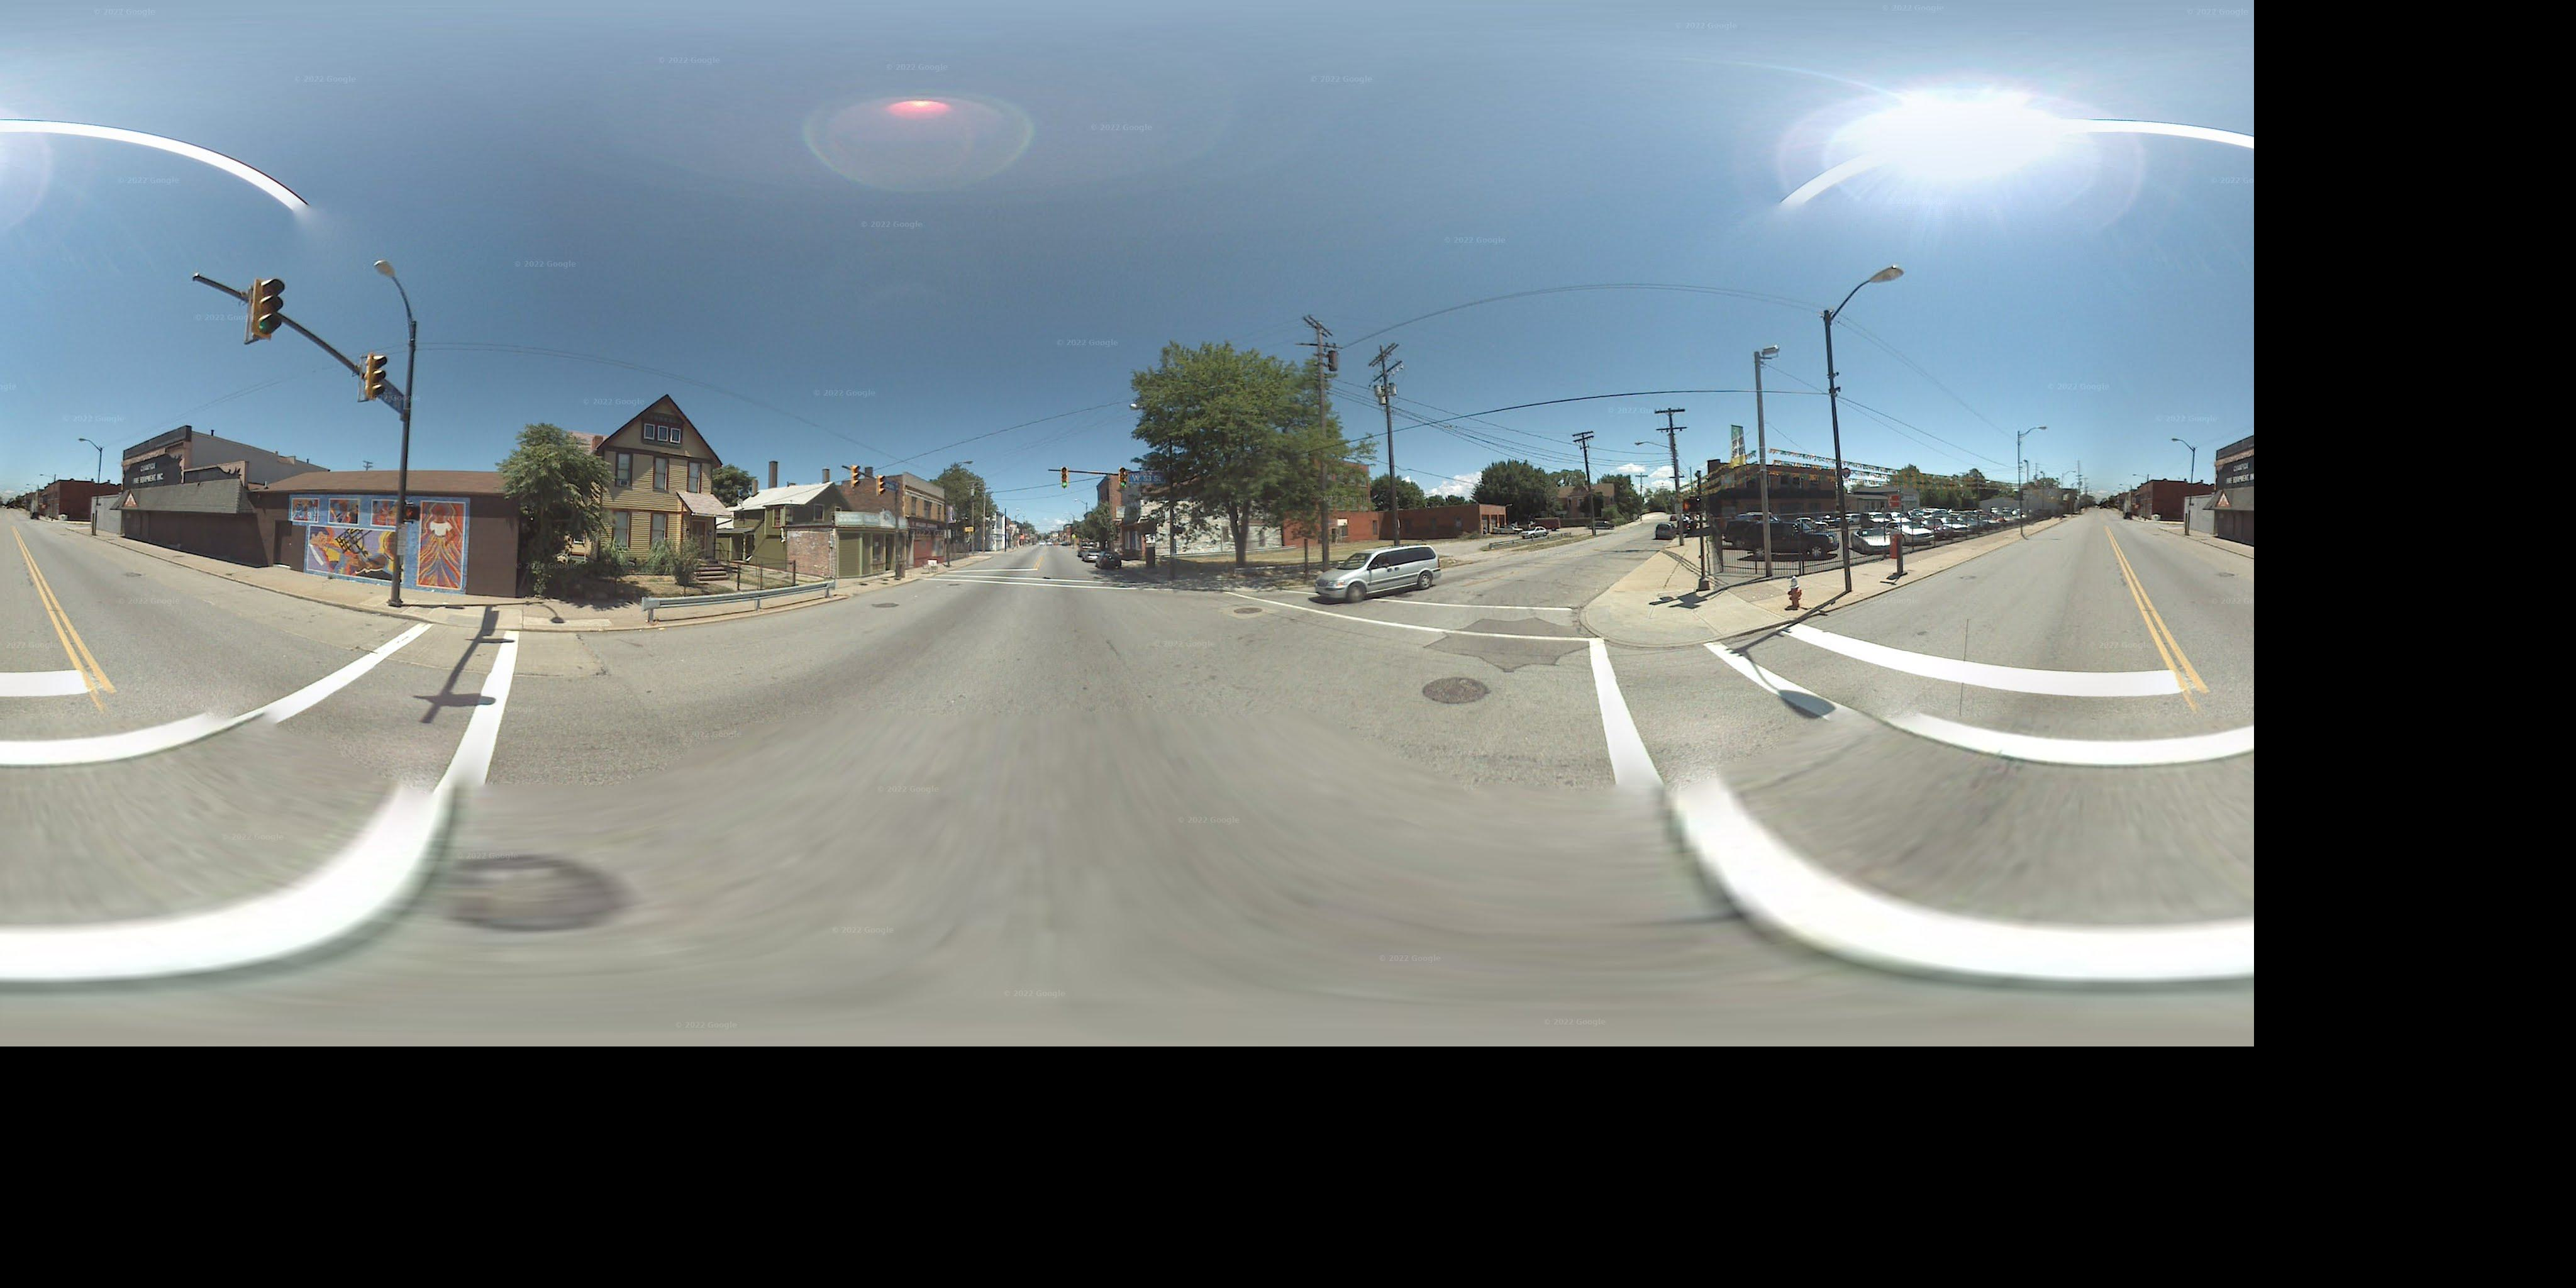Curb Ramp: (1607, 601, 1713, 660), (421, 588, 521, 641), (1224, 580, 1270, 596), (908, 567, 940, 585)
Irregular Ramp: (1561, 593, 1605, 641)
